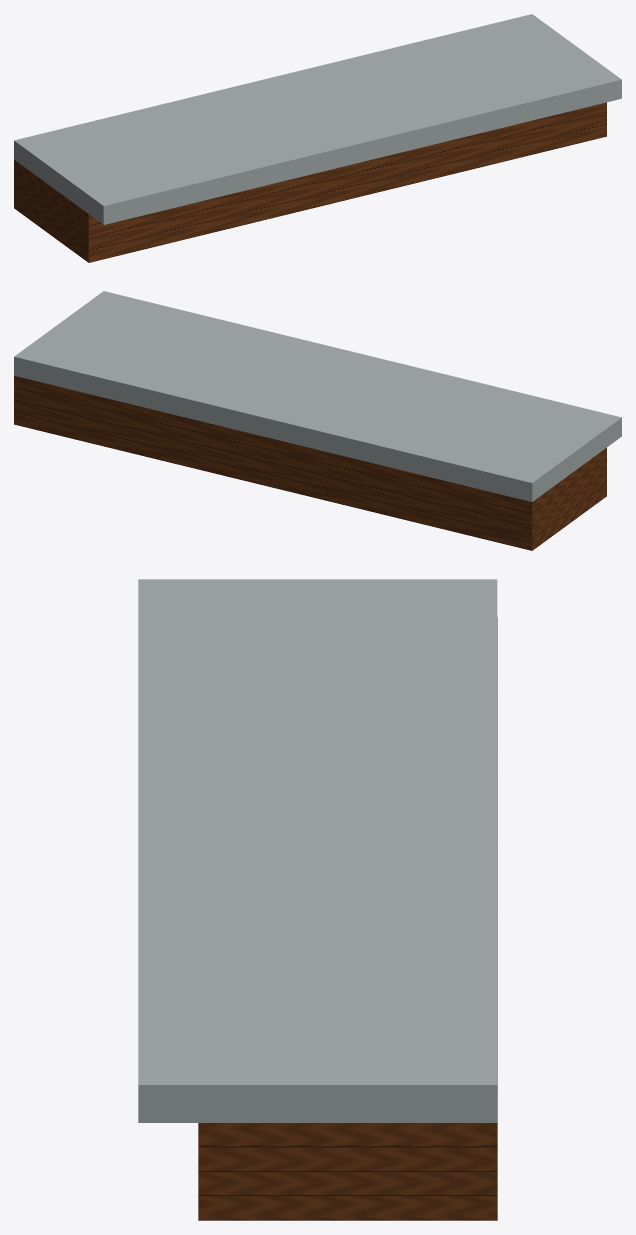
The model's file is fortified-compound-expansion-gate-wheel-stop-45c49689__27120.glb.
3 views of the same model, one above another, from view 1: azimuth 30°, elevation 25°; view 2: azimuth 150°, elevation 25°; view 3: azimuth 270°, elevation 25° (orthographic). The views are drawn at different scales.
Parts seen in each view (by area): view 1: gate-wheel-stop; view 2: gate-wheel-stop; view 3: gate-wheel-stop.
Boxes of the visible parts, left/top/right/bottom form: gate-wheel-stop: left=14, top=14, right=621, bottom=262; gate-wheel-stop: left=14, top=291, right=621, bottom=550; gate-wheel-stop: left=138, top=579, right=497, bottom=1220.
Bounding box in the file's own units: 1 × 0.125 × 0.3.
Materials: 2 (1 with a texture image).
